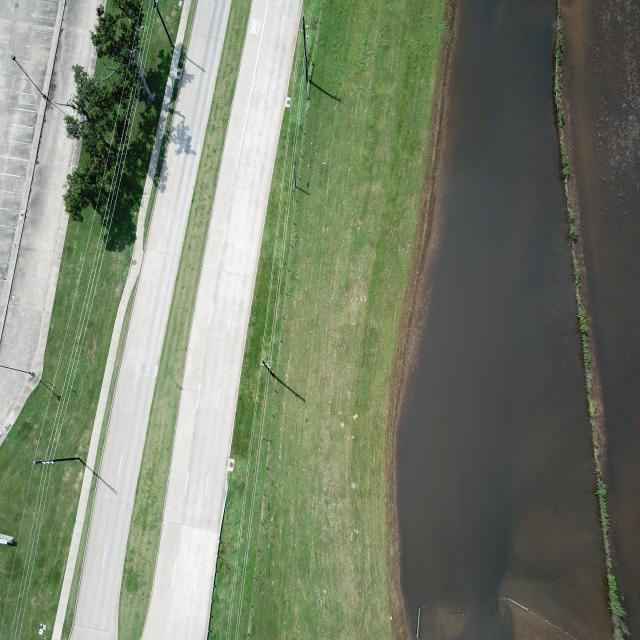fire: (397, 0, 614, 639)
